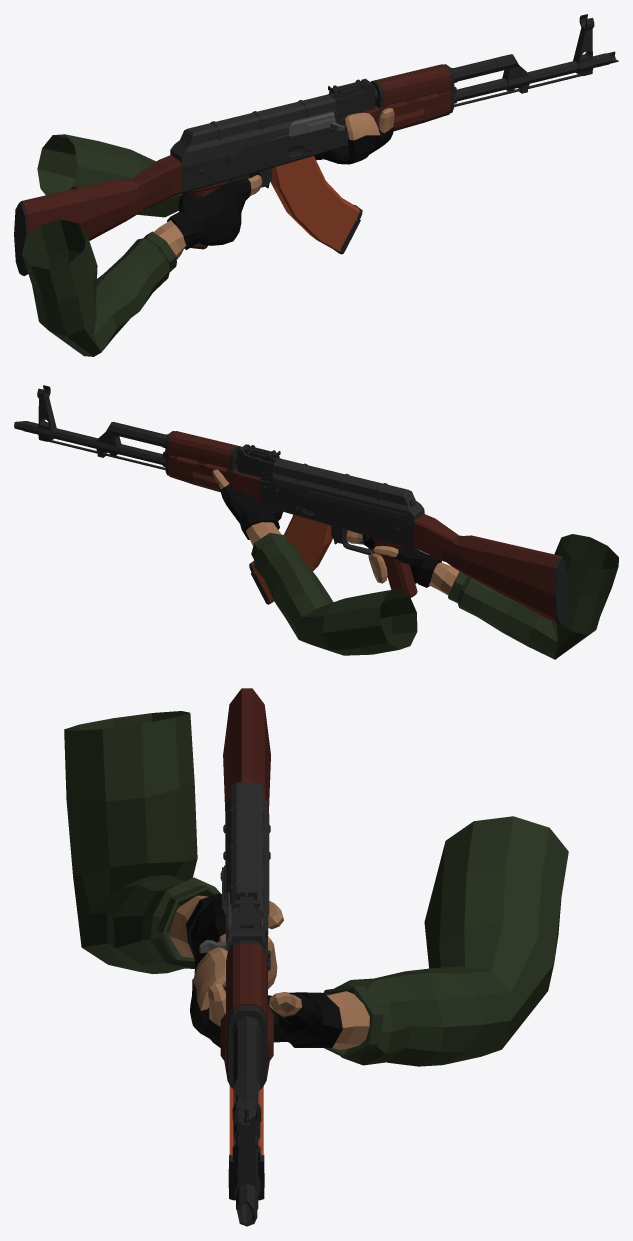
Rendered from arma.obj.
3 renders of one model, top to bottom at view 1: azimuth 30°, elevation 25°; view 2: azimuth 150°, elevation 25°; view 3: azimuth 270°, elevation 25°, orthographic. The views are drawn at different scales.
Parts seen in each view (by area): view 1: AKM_model, ArmModel; view 2: AKM_model, ArmModel; view 3: ArmModel, AKM_model.
Part boxes in pixels (x1,y1,x2,y2): AKM_model: (14, 14, 618, 275); ArmModel: (22, 108, 394, 356); AKM_model: (14, 385, 567, 624); ArmModel: (212, 469, 618, 659); ArmModel: (64, 711, 568, 1066); AKM_model: (199, 688, 273, 1226).
Bounding box in the file's own units: 23.57 × 6.77 × 9.06.
